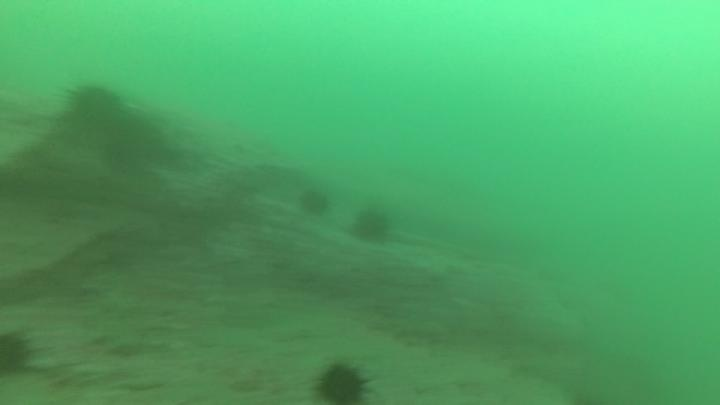echinus: (62, 80, 126, 139), (313, 359, 372, 404), (348, 204, 395, 247), (0, 327, 35, 380), (296, 185, 332, 219)
